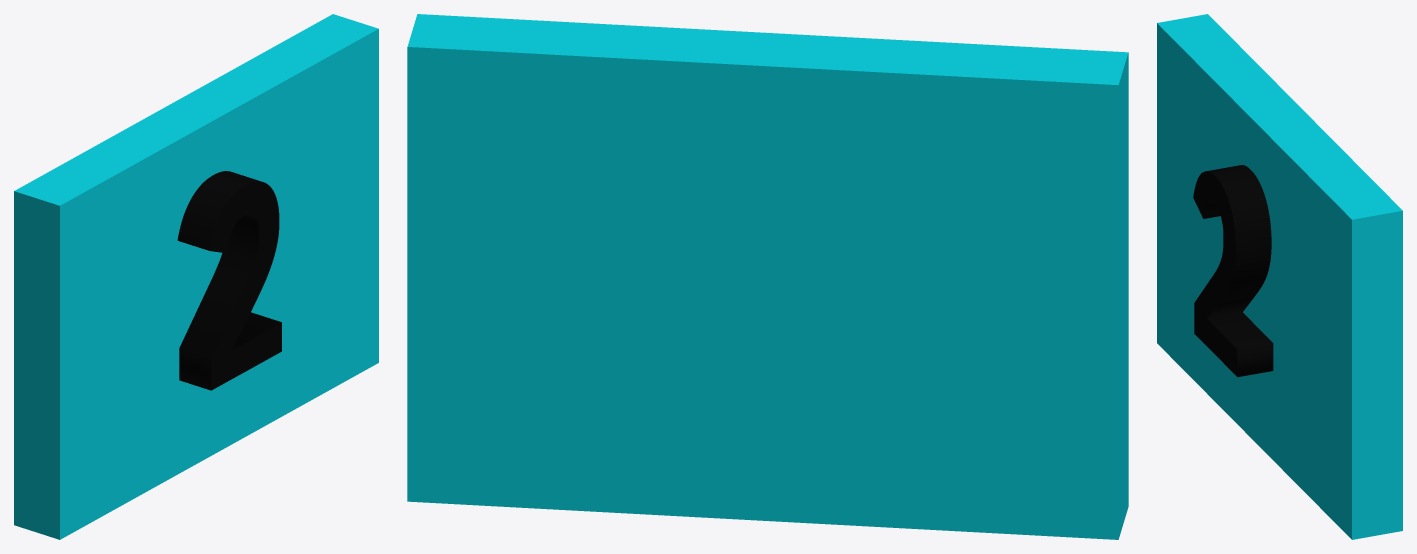
The model's file is tagblue2_1.glb.
3 views of the same model, side by side, from view 1: azimuth 30°, elevation 25°; view 2: azimuth 150°, elevation 25°; view 3: azimuth 270°, elevation 25° (orthographic). The views are drawn at different scales.
Parts seen in each view (by area): view 1: Plane.026, Text.021; view 2: Plane.026; view 3: Plane.026, Text.021.
Boxes of the visible parts, left/top/right/bottom form: Plane.026: left=14, top=14, right=378, bottom=539; Text.021: left=177, top=171, right=281, bottom=390; Plane.026: left=407, top=14, right=1128, bottom=539; Plane.026: left=1157, top=14, right=1402, bottom=539; Text.021: left=1193, top=165, right=1273, bottom=377.
Size of the model in its own units: 0.1929 by 0.14 by 0.0975.
